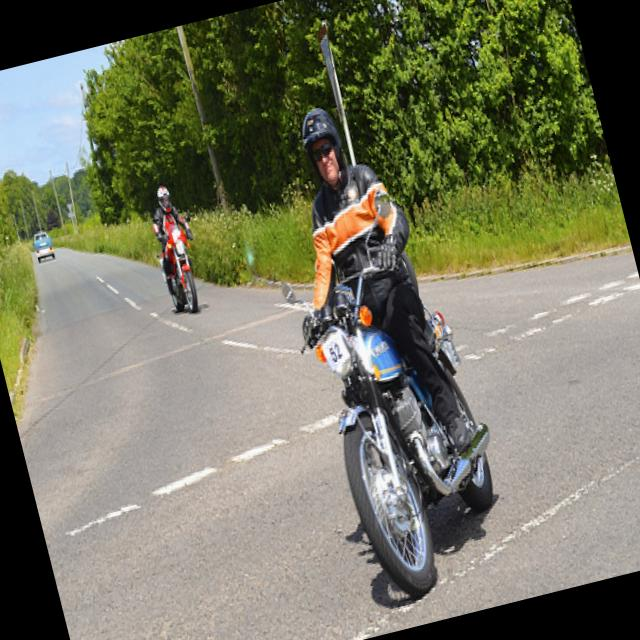Vehicle: (270, 172, 519, 611), (150, 220, 207, 317), (30, 228, 56, 262)
